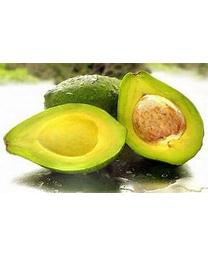avocado: (3, 103, 125, 174), (116, 73, 203, 169)
